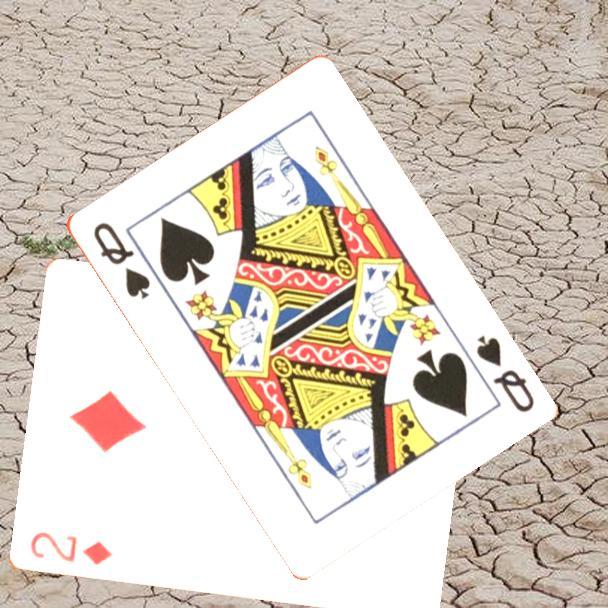d02: (26, 528, 115, 568)
s12: (471, 331, 537, 416), (89, 218, 153, 302)
